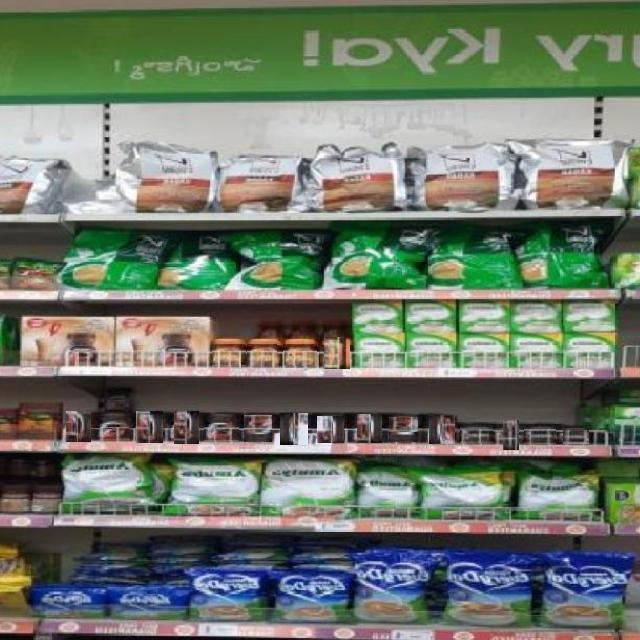Coffee: (280, 412, 308, 445), (212, 339, 246, 366), (283, 339, 317, 366), (205, 414, 239, 441), (173, 411, 199, 444), (136, 412, 163, 443), (324, 337, 350, 369), (100, 414, 130, 440), (65, 412, 91, 442), (244, 415, 272, 442), (429, 415, 455, 444), (317, 416, 344, 443), (248, 340, 277, 365), (357, 414, 382, 443), (389, 417, 418, 442), (461, 427, 493, 443), (524, 428, 556, 444), (503, 420, 519, 450), (562, 429, 589, 444)
